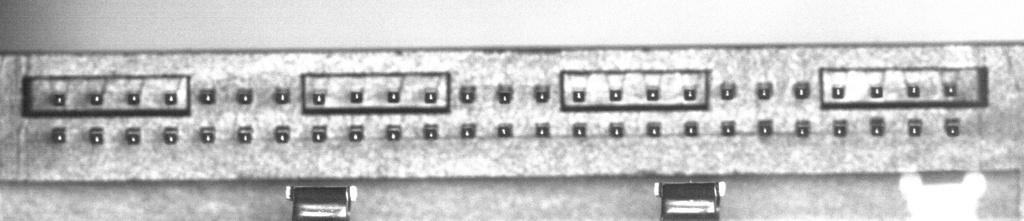pin_ok: (944, 117, 962, 136), (533, 83, 551, 102), (869, 116, 886, 136), (496, 84, 513, 104), (459, 85, 477, 103), (793, 81, 811, 99), (198, 87, 216, 104), (720, 81, 736, 100), (273, 87, 290, 104), (274, 126, 291, 143), (236, 87, 253, 104), (756, 82, 773, 99), (163, 126, 179, 144), (907, 118, 923, 136), (795, 119, 811, 137), (199, 127, 216, 143), (88, 127, 104, 144), (237, 126, 253, 143), (311, 125, 327, 142), (385, 124, 401, 141), (51, 126, 67, 143), (833, 119, 848, 137), (125, 128, 141, 144), (609, 121, 625, 137), (460, 123, 476, 139), (348, 125, 364, 141), (646, 121, 662, 137), (423, 123, 439, 139), (758, 119, 773, 136), (720, 120, 736, 135), (684, 120, 699, 136), (572, 122, 587, 137), (645, 86, 660, 101), (535, 122, 550, 137), (497, 123, 513, 137), (906, 84, 921, 98), (943, 82, 957, 97), (683, 86, 697, 101), (386, 89, 401, 103), (163, 91, 177, 106), (831, 85, 845, 99), (571, 89, 586, 102), (870, 85, 884, 98), (609, 87, 622, 101), (424, 89, 437, 103), (312, 92, 326, 105), (350, 89, 363, 103), (53, 92, 66, 106), (127, 92, 140, 105), (89, 92, 102, 105)
